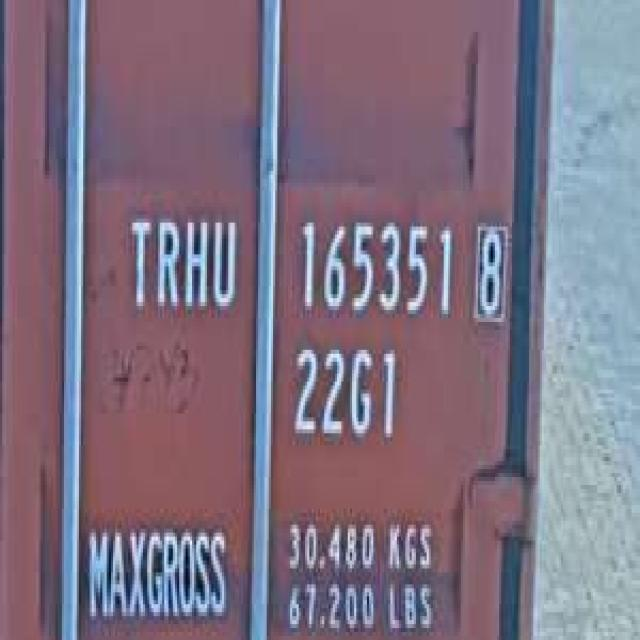dv: (469, 211, 510, 330)
owner: (124, 199, 241, 326)
serial: (290, 203, 457, 330)
size: (286, 334, 403, 453)
